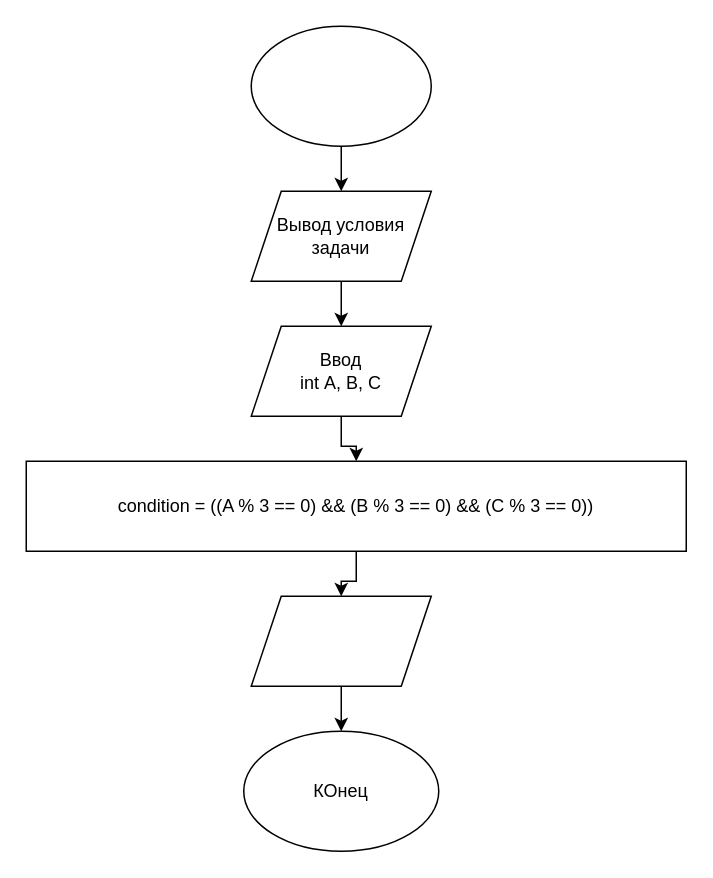
The diagram is 713 pixels wide and 878 high, and some of its shapes have lost their labels. Here are the shapes that lost their labels. From the top down, the centre of each, then its label:
At [340,85]: "Начало".
At [340,640]: "Вывод condition".
